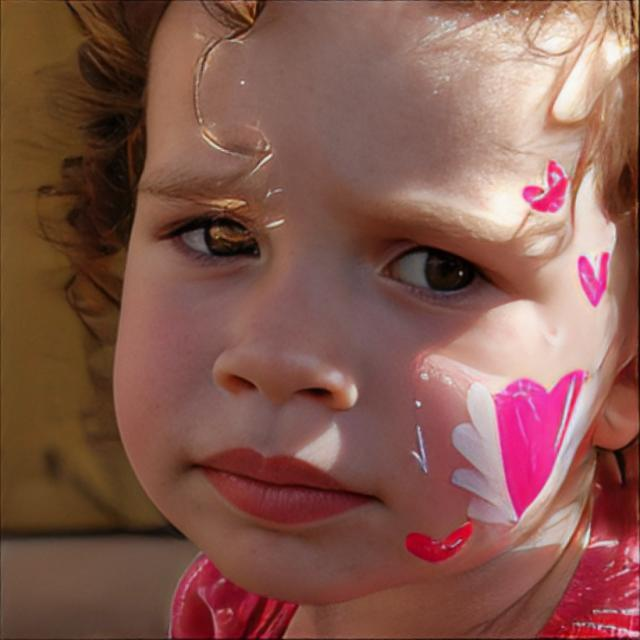sad: (111, 0, 640, 602)
